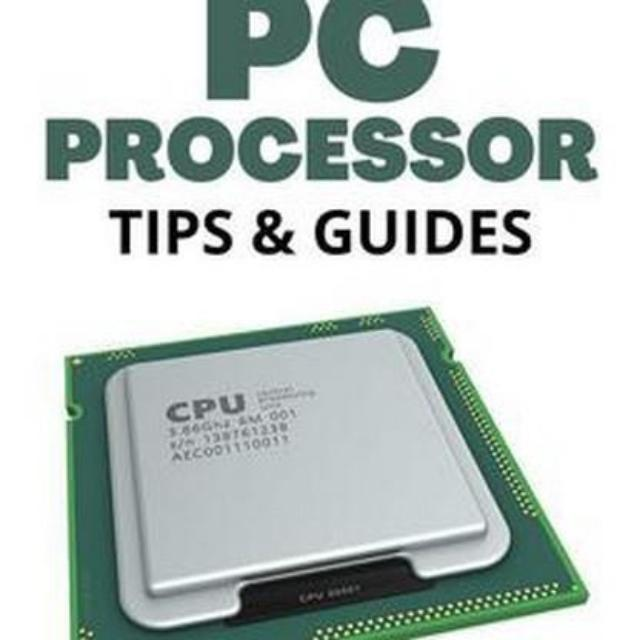CPU: (64, 315, 554, 640)
